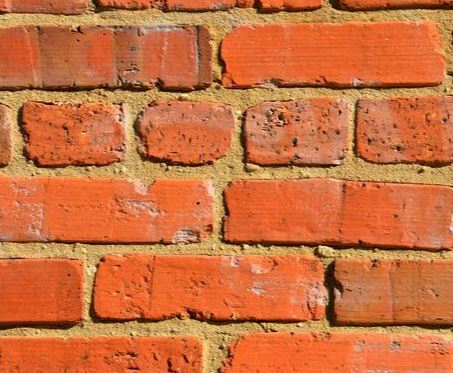brick: (222, 176, 453, 254), (90, 251, 328, 325), (221, 19, 449, 87), (1, 176, 216, 245), (1, 24, 213, 92), (330, 255, 453, 330), (226, 334, 453, 372), (1, 334, 207, 373), (244, 95, 350, 168), (354, 95, 453, 169), (20, 102, 126, 167), (137, 99, 234, 167), (1, 255, 87, 323)
